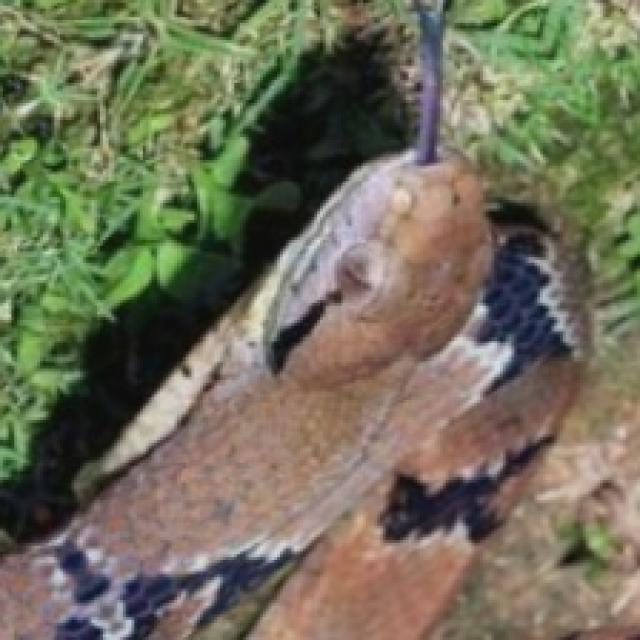dog-toothed cat snake: (0, 0, 583, 637)
